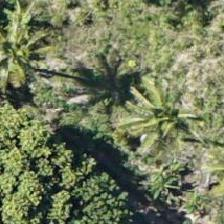coconut_tree: (103, 73, 193, 163), (0, 0, 59, 81)
